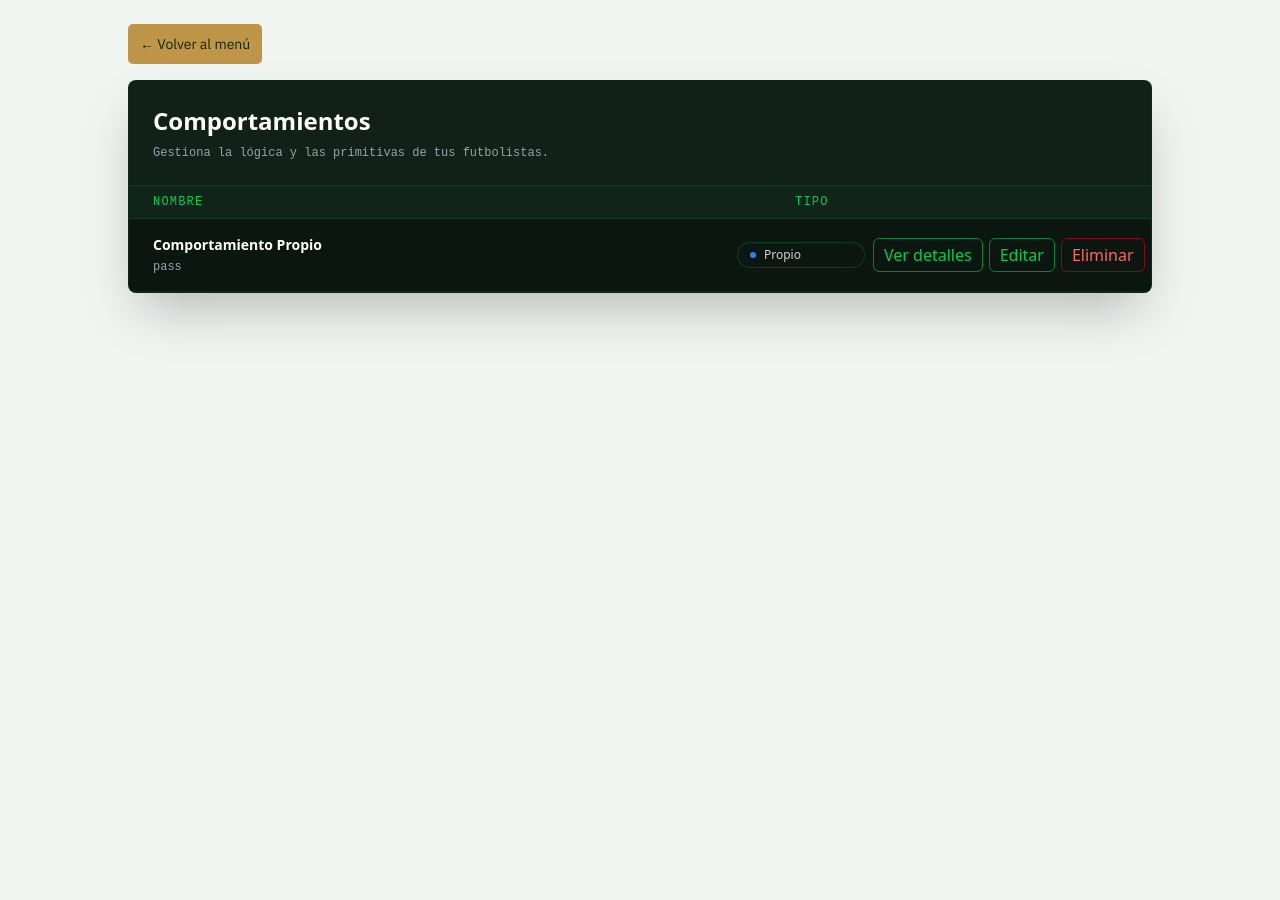
Test: BehaviorPage › Debe eliminar el comportamiento de la lista instantáneamente al confirmar un éxito (200/204)
The width and height of the screenshot is (1280, 900).
Expected: the heading "Comportamiento Propio" is shown, [153,235,322,254]
Click the button "Eliminar" at x=1103, y=255, box [1061,238,1145,272]
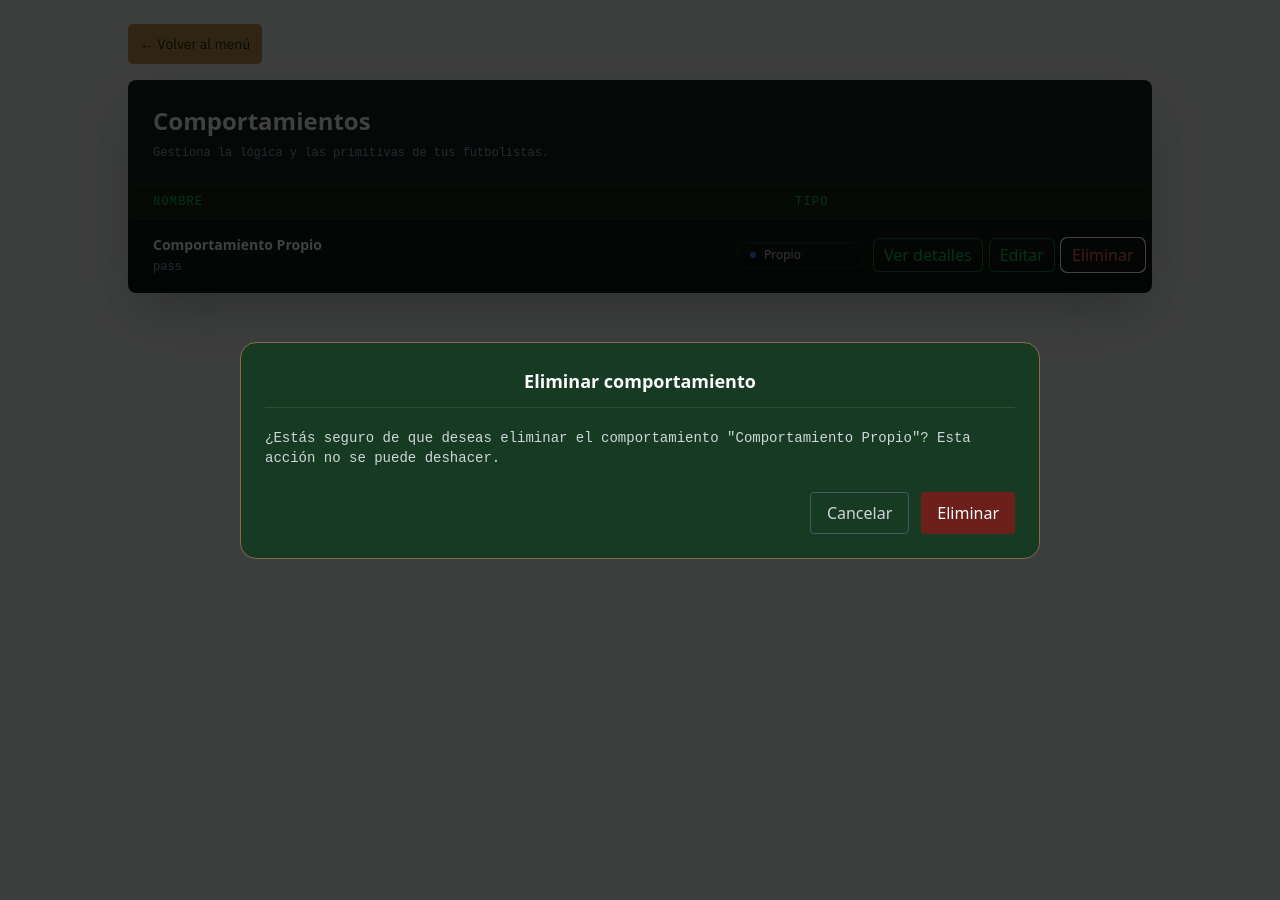
Click the button "Eliminar" at x=968, y=512, box [921,492,1015,534]
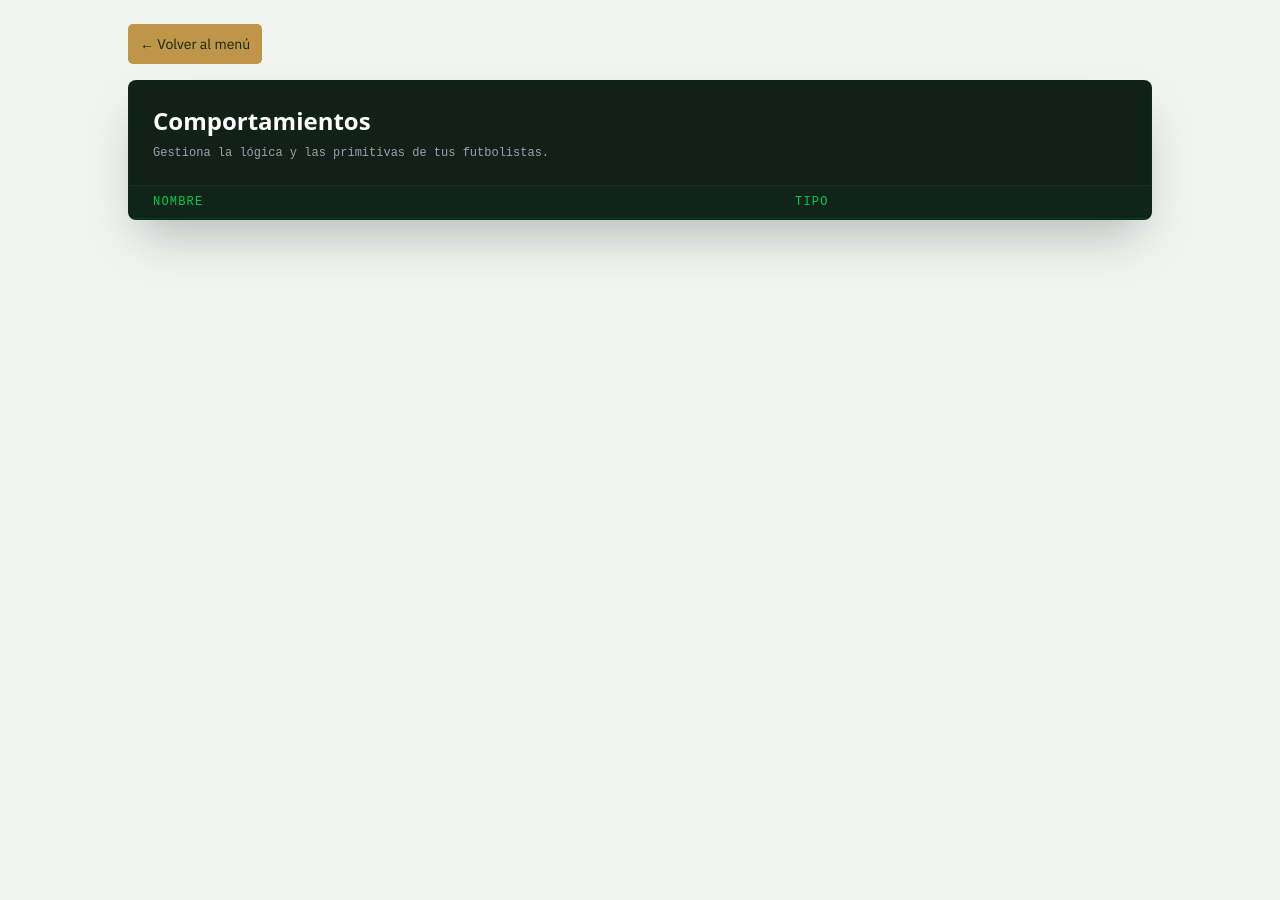
Expected: the heading "Comportamiento Propio" is gone
